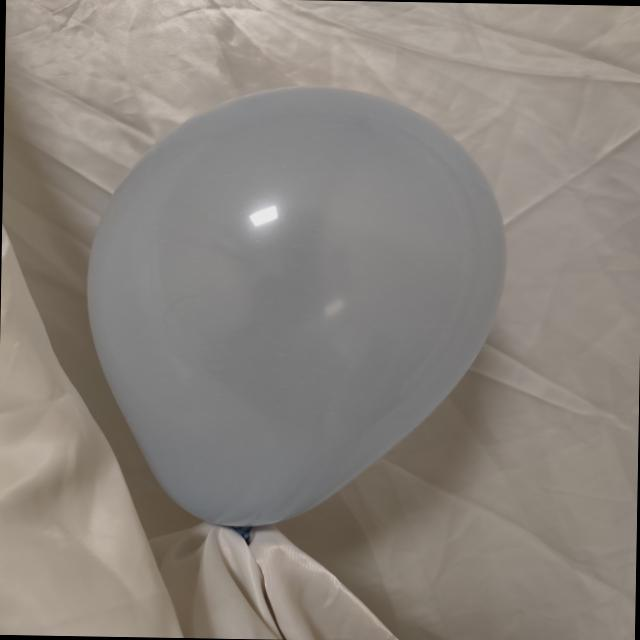balloon: (87, 88, 504, 549)
